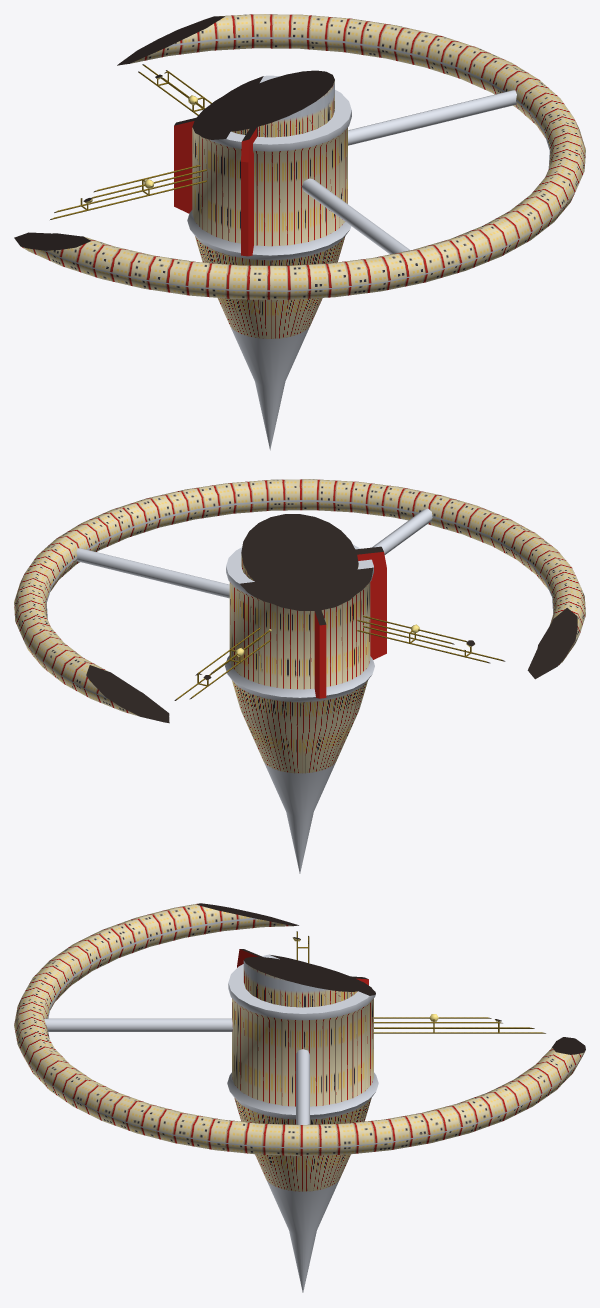
Rendered from guard_station_build2_debris2.obj.
3 renders of one model, top to bottom at view 1: azimuth 30°, elevation 25°; view 2: azimuth 150°, elevation 25°; view 3: azimuth 270°, elevation 25°, orthographic. The views are drawn at different scales.
Visible parts, largest first — view 1: ring, tower, spoke, buttress225, buttress315, post; view 2: tower, ring, spoke, buttress225, post, buttress315; view 3: ring, tower, spoke, post.
Boxes of the visible parts, box(x1,y1,x2,y2) form: ring: box(14, 14, 585, 299); tower: box(187, 70, 351, 450); spoke: box(302, 90, 516, 254); buttress225: box(241, 113, 265, 256); buttress315: box(174, 108, 238, 213); post: box(50, 64, 211, 219); tower: box(225, 514, 374, 873); ring: box(14, 479, 585, 723); spoke: box(76, 508, 432, 598); buttress225: box(326, 546, 386, 659); post: box(174, 615, 505, 700); buttress315: box(305, 579, 326, 698); ring: box(14, 903, 585, 1155); tower: box(227, 954, 378, 1292); spoke: box(44, 1018, 309, 1124); post: box(296, 931, 545, 1033).
Size of the model in its own units: 241 by 158 by 241.
6 materials, 2 textured.
